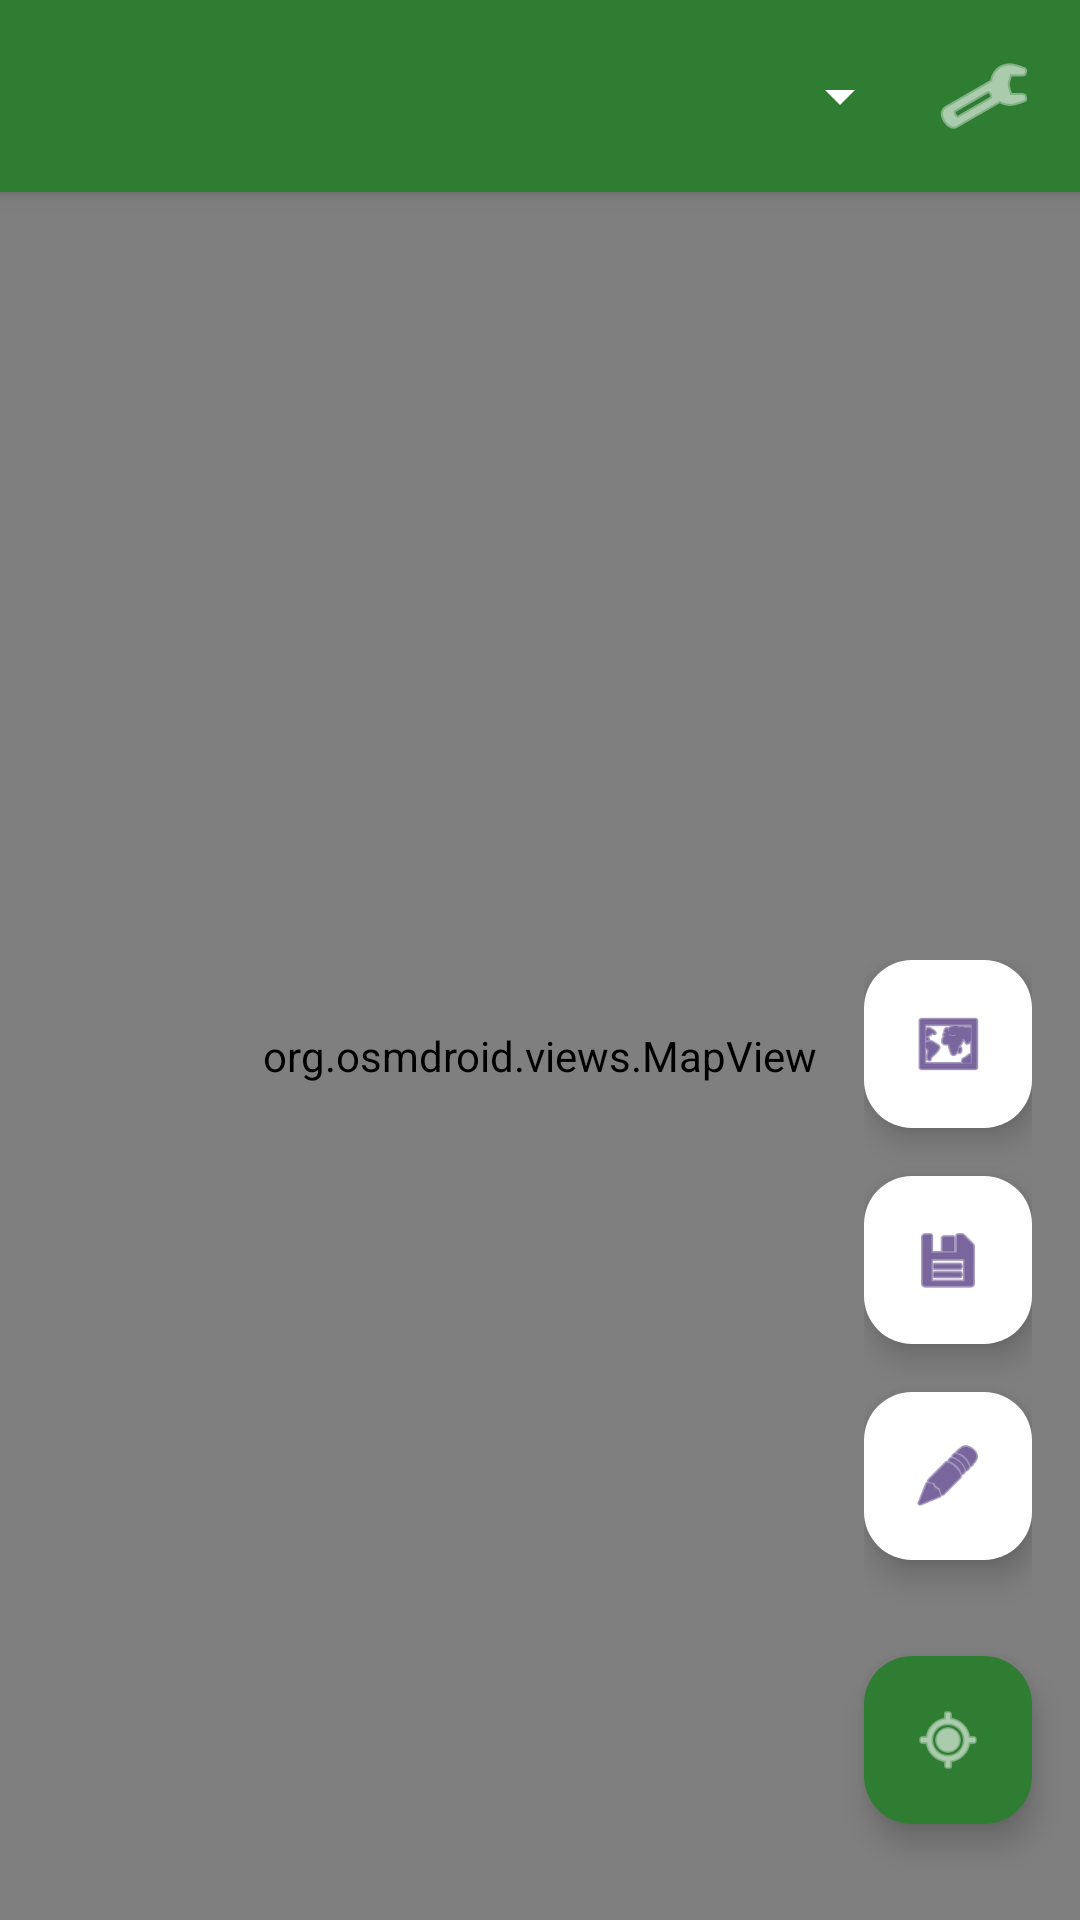

Locate icon controls on the screen. Image size 1080px x 1920px, boxes as (x1, y1, x2, y2).
Ajustes: (941, 63, 1027, 129)
Capas: (864, 960, 1032, 1128)
Descargar Offline: (864, 1176, 1032, 1344)
Dibujar: (864, 1392, 1032, 1560)
Mi ubicación: (864, 1656, 1032, 1824)
